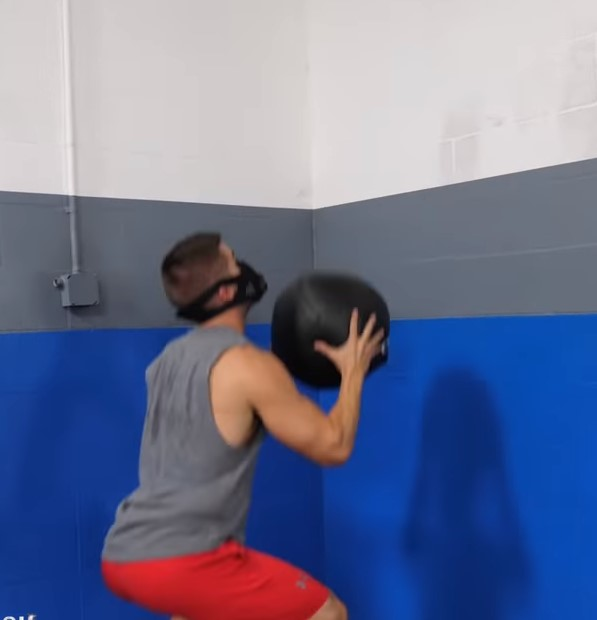face_with_mask: (161, 226, 270, 330)
